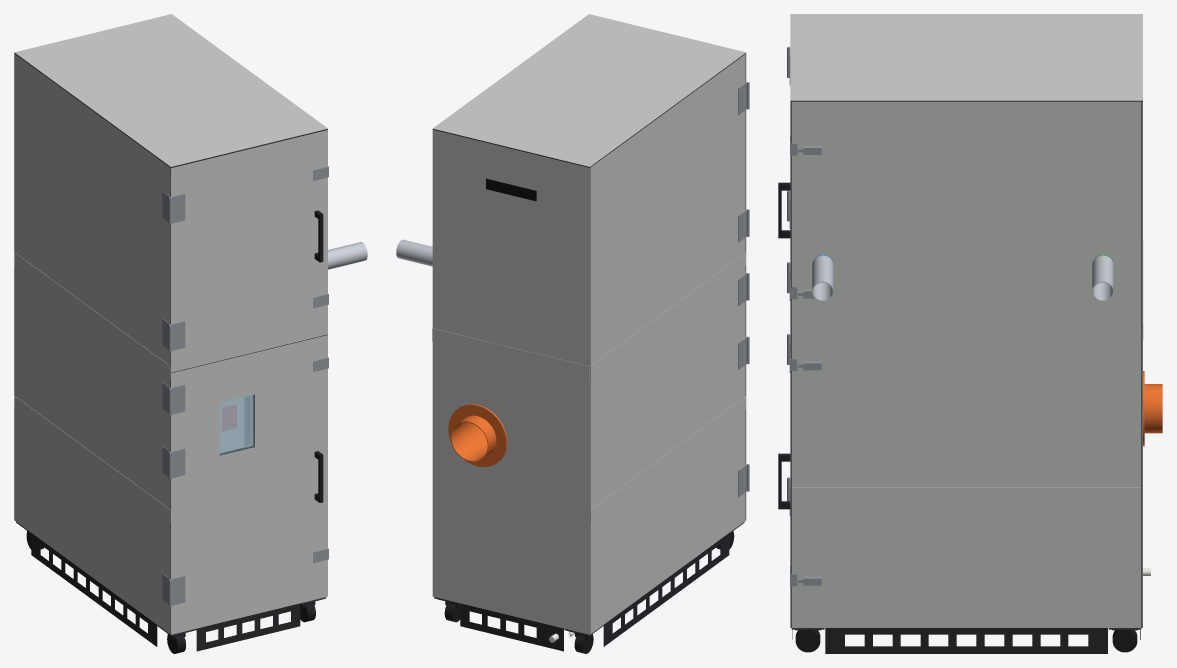
File: SilentRackAC.glb
The picture shows the model from 3 angles, left to right: view 1: azimuth 30°, elevation 25°; view 2: azimuth 150°, elevation 25°; view 3: azimuth 270°, elevation 25°; orthographic projection. The views are drawn at different scales.
Parts seen in each view (by area): view 1: Door lower (AC bay), Door upper (rack), Side panel left 3, Top panel, Side panel left 2, Side panel left 1, Skirt left, Joint strip left 1, Joint strip left 2, Window pane outer, Skirt front, Window pane inner (+7 smaller); view 2: Rear panel 1, Rear panel 2, Side panel left 3, Top panel, Side panel left 2, Side panel left 1, Exhaust wall spigot, Skirt left, Joint strip rear 1, Joint strip left 2, Joint strip left 1, Skirt rear (+3 smaller); view 3: Side panel right 3, Side panel right 2, Side panel right 1, Top panel, Joint strip right 1, Joint strip right 2, Skirt right, Rear panel MLV, Exhaust wall spigot, Office return duct (flex 60), Office supply duct (flex 60).
Boxes of the visible parts, x1,y1,x2,y2 form: Door lower (AC bay): (170, 335, 327, 634); Door upper (rack): (170, 130, 327, 372); Side panel left 3: (15, 54, 170, 365); Top panel: (14, 14, 327, 166); Side panel left 2: (15, 266, 170, 509); Side panel left 1: (15, 410, 170, 633); Skirt left: (31, 533, 157, 646); Joint strip left 1: (14, 396, 170, 522); Joint strip left 2: (14, 253, 170, 378); Window pane outer: (219, 394, 254, 455); Skirt front: (196, 603, 300, 651); Window pane inner: (220, 396, 251, 452); Rear panel 1: (432, 341, 589, 634); Rear panel 2: (432, 129, 589, 366); Side panel left 3: (590, 54, 745, 365); Top panel: (432, 14, 745, 166); Side panel left 2: (590, 266, 745, 509); Side panel left 1: (590, 410, 745, 634); Exhaust wall spigot: (448, 404, 507, 466); Skirt left: (603, 533, 729, 646); Joint strip rear 1: (432, 328, 589, 379); Joint strip left 2: (590, 252, 745, 379); Joint strip left 1: (590, 396, 745, 522); Skirt rear: (460, 603, 563, 651); Side panel right 3: (791, 101, 1141, 325); Side panel right 2: (791, 340, 1141, 487); Side panel right 1: (791, 502, 1141, 627); Top panel: (790, 14, 1142, 100); Joint strip right 1: (791, 487, 1141, 502); Joint strip right 2: (791, 325, 1141, 340); Skirt right: (825, 628, 1107, 653); Rear panel MLV: (1141, 101, 1142, 627); Exhaust wall spigot: (1143, 371, 1162, 446); Office return duct (flex 60): (1092, 255, 1113, 301); Office supply duct (flex 60): (812, 255, 833, 301).
Bounding box in the file's own units: 827 × 1870 × 1168.
